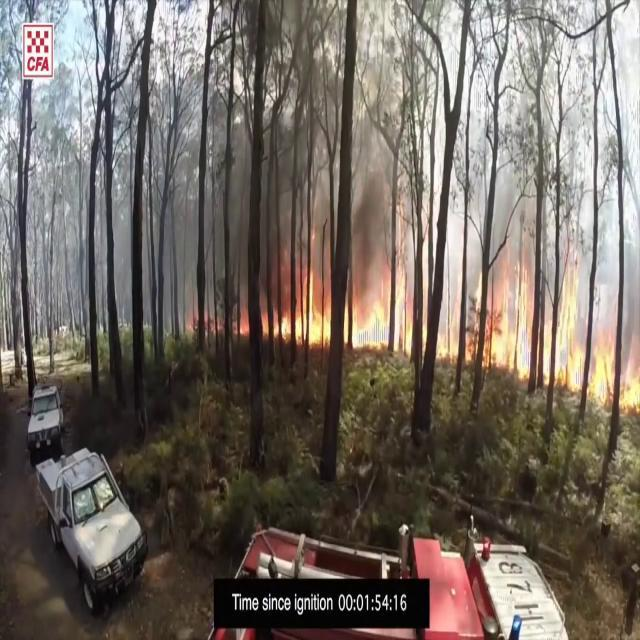Fire: (489, 222, 639, 417), (292, 228, 414, 356)
Smoke: (181, 2, 422, 320)
